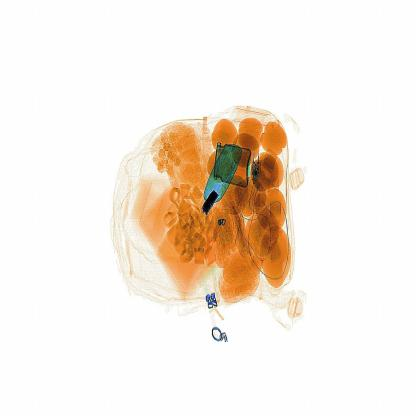scissors: (198, 187, 223, 220)
